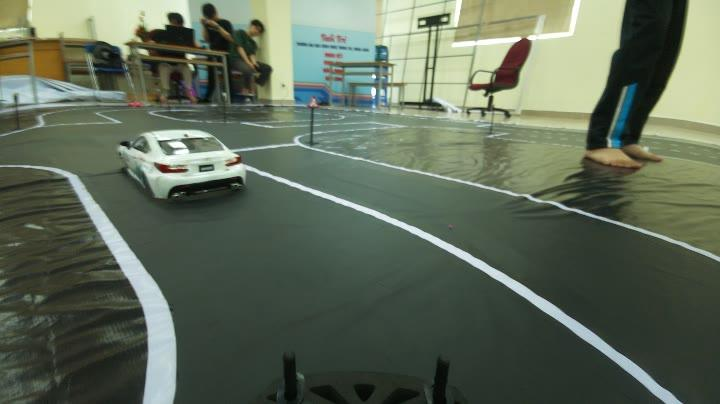car: (119, 128, 248, 202)
